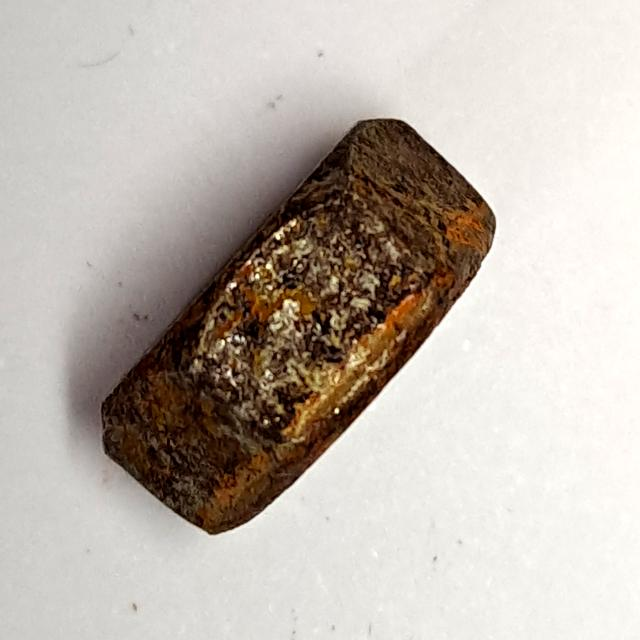Side_Rust: (81, 102, 522, 555)
